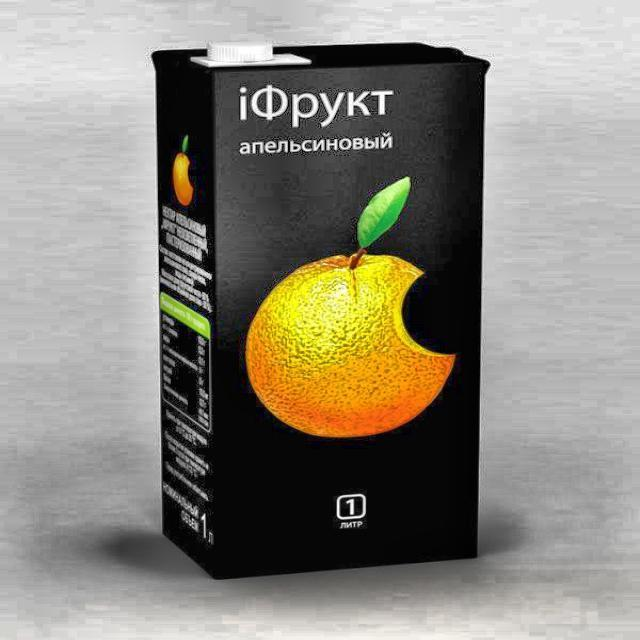cardboard: (152, 41, 488, 580)
